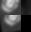mirror: (0, 0, 21, 15), (0, 15, 21, 30)
wood: (21, 15, 31, 32)
